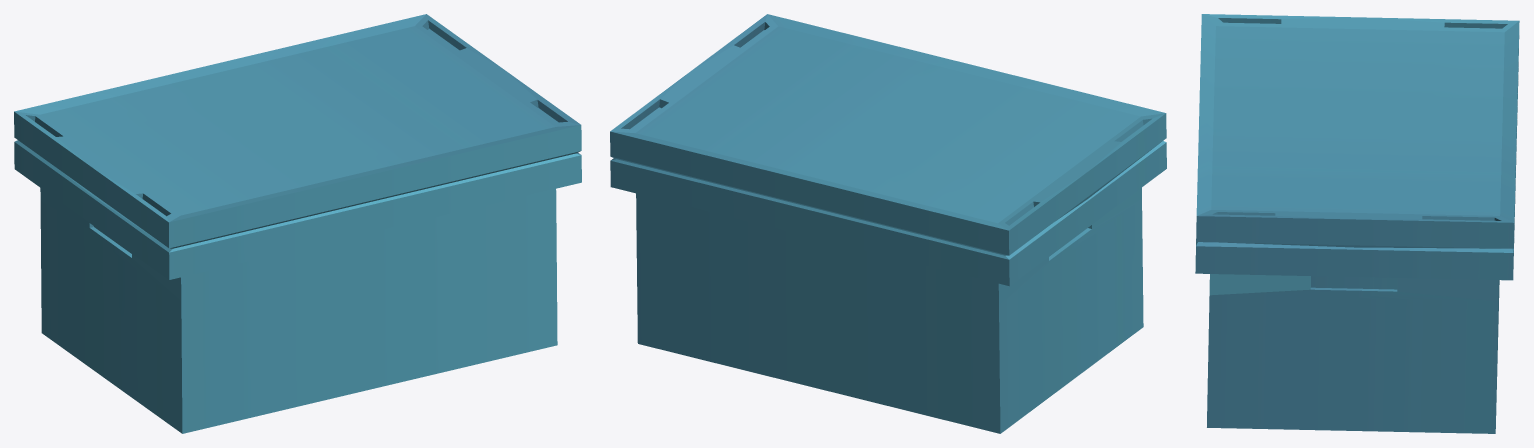
Rendered from box_pile.glb.
3 views of the same model, side by side, from view 1: azimuth 30°, elevation 25°; view 2: azimuth 150°, elevation 25°; view 3: azimuth 270°, elevation 25° (orthographic). The views are drawn at different scales.
Parts seen in each view (by area): view 1: BossDocumentBox.008; view 2: BossDocumentBox.008; view 3: BossDocumentBox.008.
Part boxes in pixels (x1,y1,x2,y2): BossDocumentBox.008: (14, 14, 581, 433); BossDocumentBox.008: (610, 14, 1166, 433); BossDocumentBox.008: (1195, 14, 1519, 433).
Bounding box in the file's own units: 0.9973 × 0.5189 × 0.673.
1 material, 1 textured.
